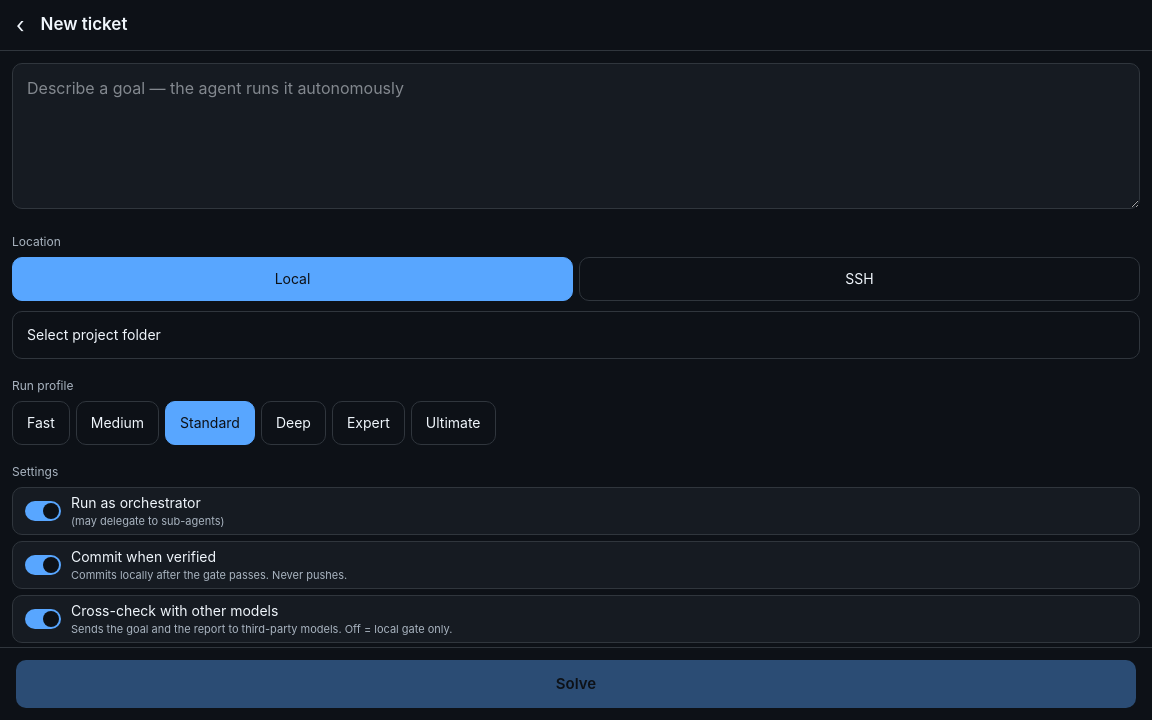
Test: MobileTicketCompose › tells the user what to do when no project is available
Click the button "Select project folder" at (94, 334), box [12,310,1140,358]
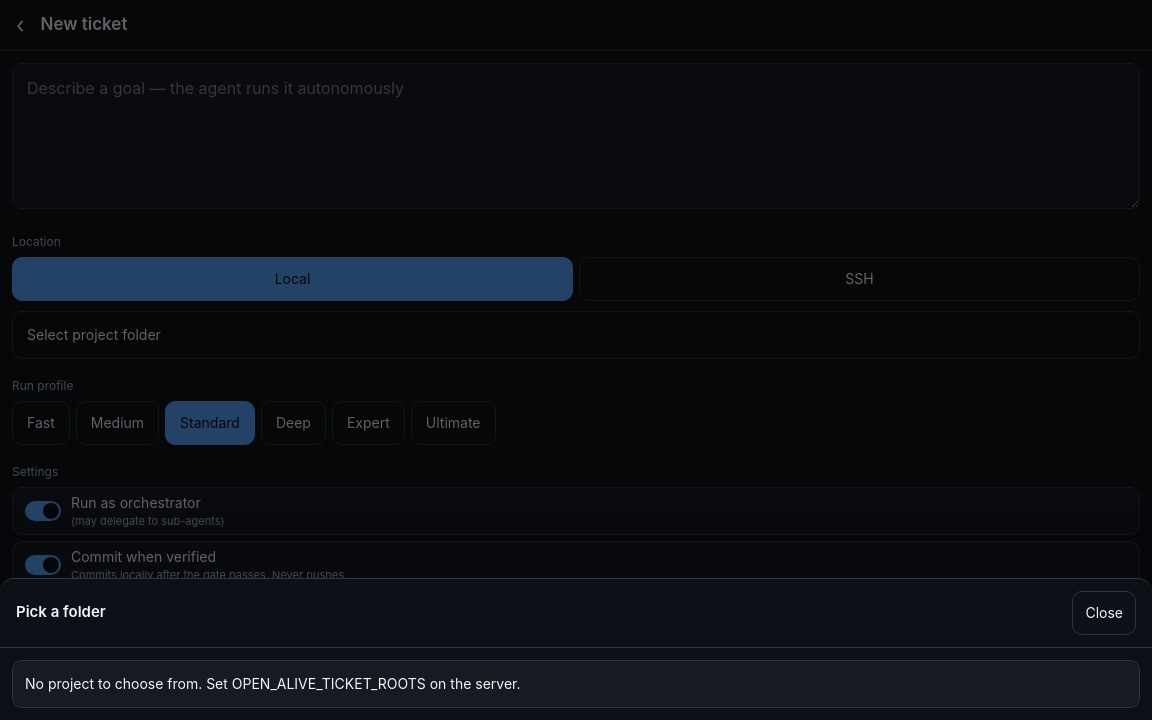
Expected: the text "OPEN_ALIVE_TICKET_ROOTS" is shown, [25,675,520,692]
